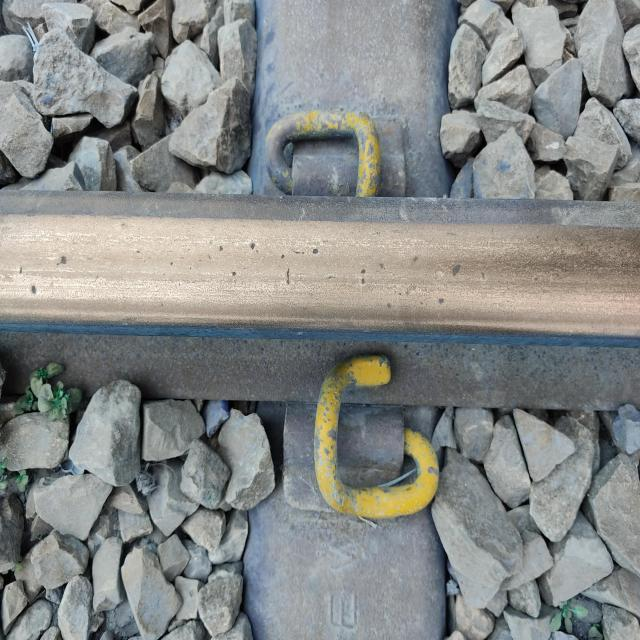broken_rail_medium: (18, 254, 68, 298), (279, 244, 321, 287), (217, 241, 257, 280), (359, 264, 370, 288), (452, 259, 462, 279), (435, 291, 446, 306), (411, 253, 419, 264)
